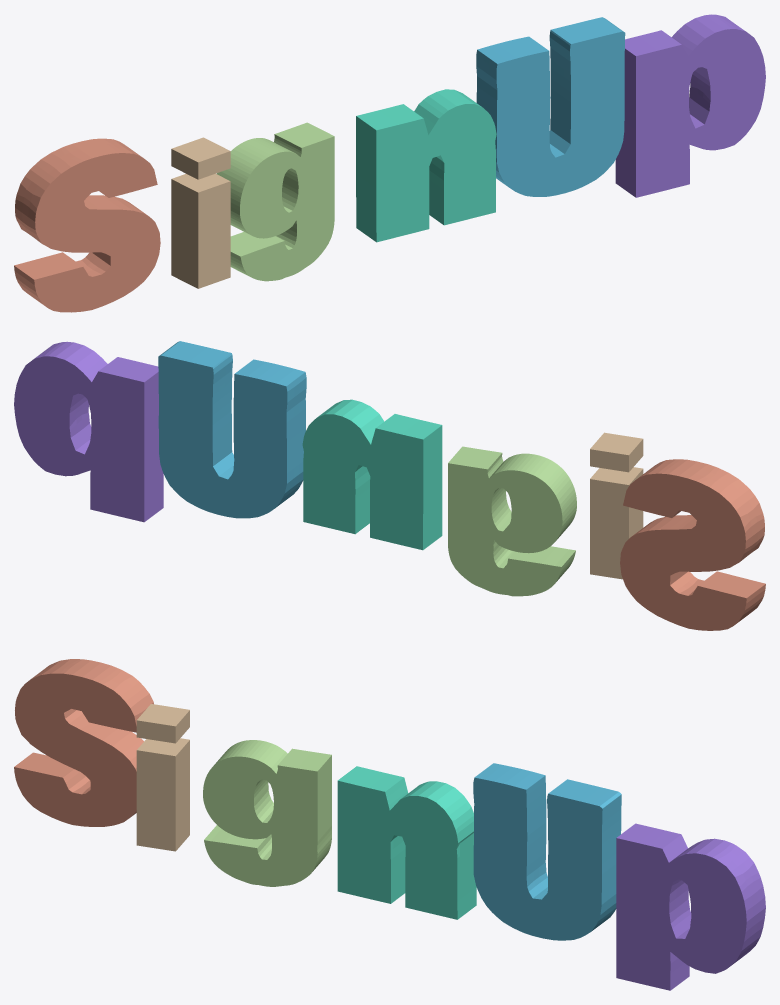
The model's file is 28thJan_SignUp.glb.
3 views of the same model, one above another, from view 1: azimuth 30°, elevation 25°; view 2: azimuth 150°, elevation 25°; view 3: azimuth 330°, elevation 25° (orthographic).
Parts seen in each view (by area): view 1: Text.014, Text.015, Text.011, Text.013, Text.009, i.001, i; view 2: Text.014, Text.015, Text.011, Text.013, Text.009, i.001, i; view 3: Text.014, Text.015, Text.011, Text.013, Text.009, i.001, i.
Boxes of the visible parts, <box> form: Text.014: <box>476,17,625,196</box>; Text.015: <box>615,14,765,197</box>; Text.011: <box>14,138,160,312</box>; Text.013: <box>356,89,496,242</box>; Text.009: <box>216,122,334,281</box>; i.001: <box>171,173,230,288</box>; i: <box>171,137,230,179</box>; Text.014: <box>158,341,306,518</box>; Text.015: <box>14,341,163,522</box>; Text.011: <box>620,459,765,630</box>; Text.013: <box>302,399,442,550</box>; Text.009: <box>448,446,576,596</box>; i.001: <box>590,467,643,579</box>; i: <box>590,432,643,472</box>; Text.014: <box>473,763,621,940</box>; Text.015: <box>616,823,765,990</box>; Text.011: <box>14,659,153,826</box>; Text.013: <box>337,766,476,919</box>; Text.009: <box>203,740,331,886</box>; i.001: <box>136,738,189,851</box>; i: <box>136,704,189,743</box>.
Size of the model in its own units: 4.27 by 0.9732 by 0.446.
